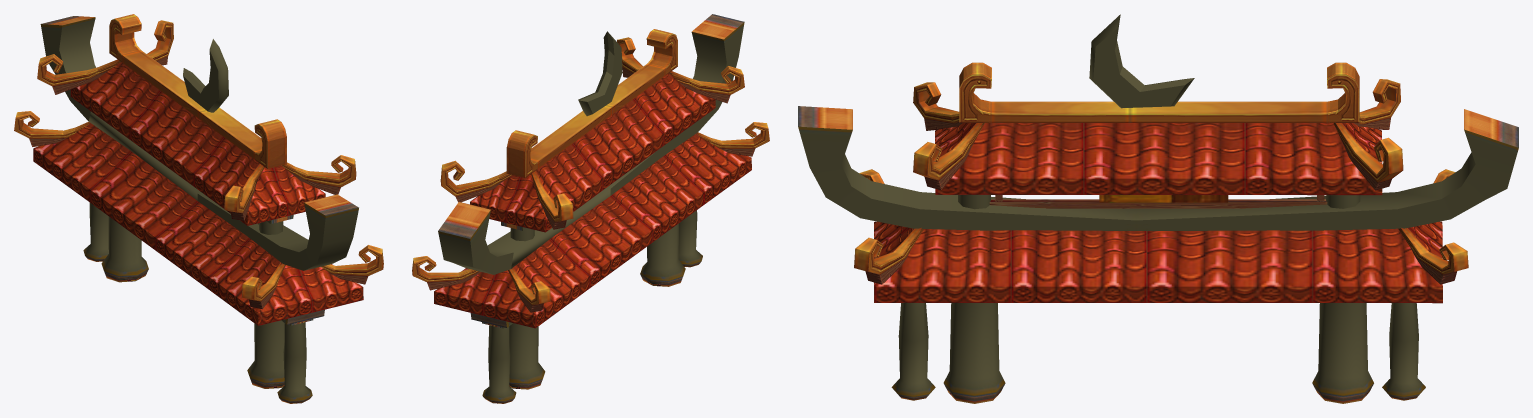
File: jianzhu04.FBX
3 renders of one model, left to right at view 1: azimuth 30°, elevation 25°; view 2: azimuth 150°, elevation 25°; view 3: azimuth 270°, elevation 25°, orthographic. The views are drawn at different scales.
Visible parts, largest first — view 1: Object132; view 2: Object132; view 3: Object132.
Boxes of the visible parts, x1,y1,x2,y2 form: Object132: (14,14,383,403); Object132: (412,14,769,403); Object132: (798,14,1518,403).
Bounding box in the file's own units: 289 × 584 × 1008.
